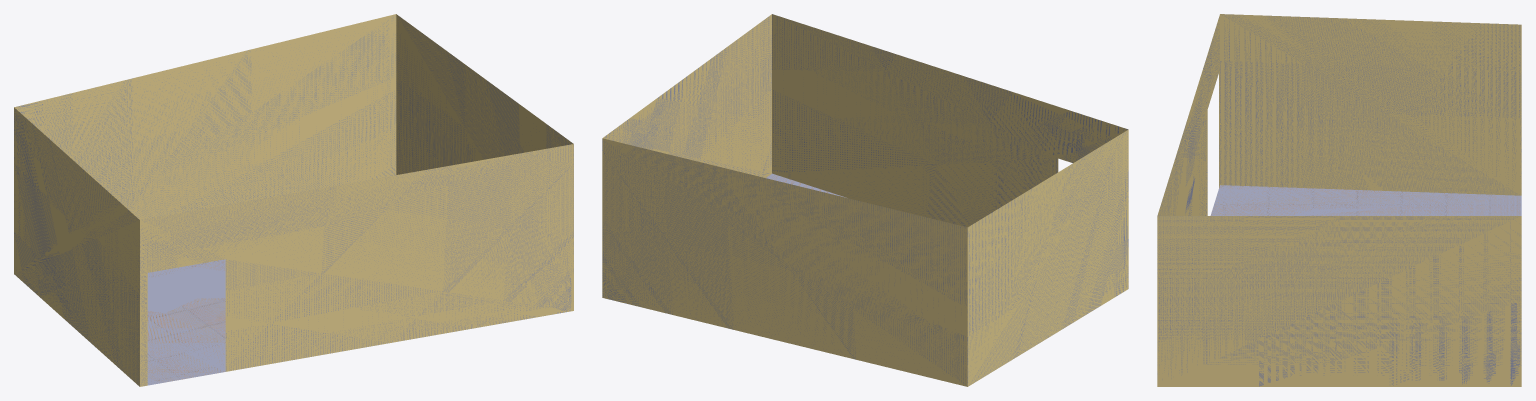
The model's file is LAB005.obj.
3 views of the same model, side by side, from view 1: azimuth 30°, elevation 25°; view 2: azimuth 150°, elevation 25°; view 3: azimuth 270°, elevation 25° (orthographic). The views are drawn at different scales.
Visible parts, largest first — view 1: Mesh1 LAB005 Model; view 2: Mesh1 LAB005 Model; view 3: Mesh1 LAB005 Model.
Part boxes in pixels (left/top/right/bottom): Mesh1 LAB005 Model: left=14, top=14, right=573, bottom=386; Mesh1 LAB005 Model: left=602, top=14, right=1128, bottom=386; Mesh1 LAB005 Model: left=1157, top=14, right=1521, bottom=386.
Bounding box in the file's own units: 7.6 × 3 × 5.79.
3 materials, 1 textured.
